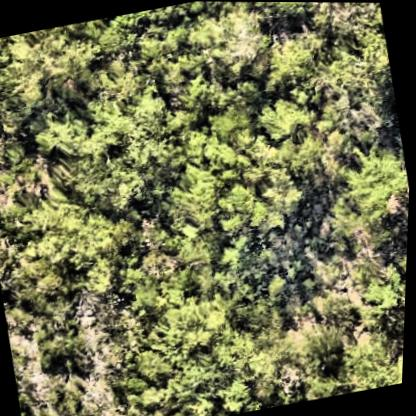tree-top: (164, 72, 342, 245), (117, 269, 277, 416), (40, 80, 192, 225), (7, 177, 138, 306), (0, 22, 105, 106), (276, 319, 359, 404), (315, 60, 396, 145), (332, 140, 412, 226), (257, 19, 330, 93), (328, 324, 407, 392), (196, 9, 269, 80), (26, 318, 94, 381), (376, 212, 410, 315), (253, 1, 326, 28), (22, 397, 64, 416)
